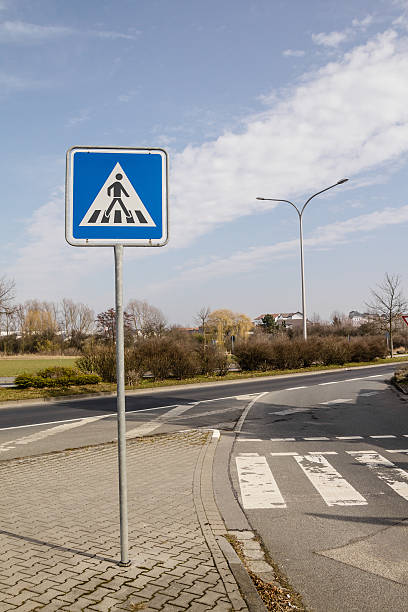pedestrian: (70, 157, 165, 241)
